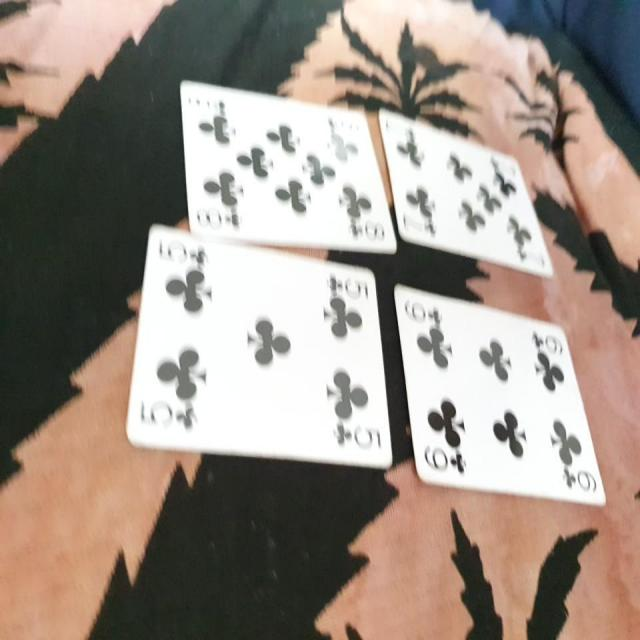5 Trefoils: (125, 220, 396, 467)
6 Trefoils: (394, 282, 608, 508)
7 Trefoils: (376, 108, 553, 280)
8 Trefoils: (179, 78, 398, 256)
